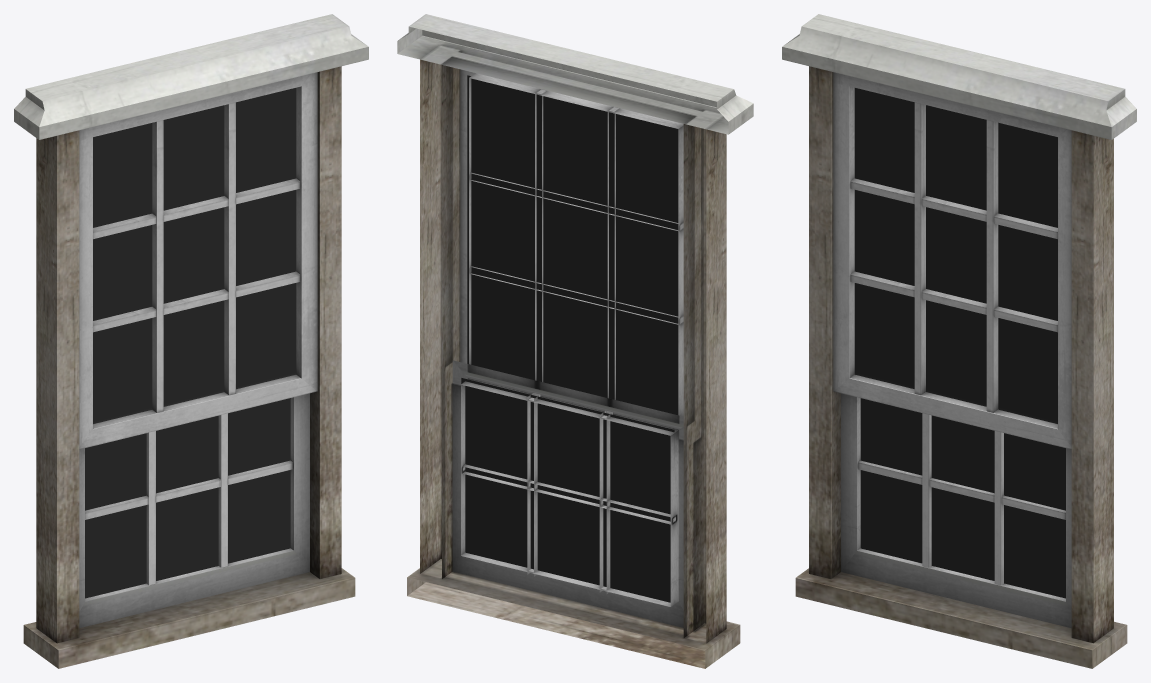
File: Window_03_closed.FBX
3 renders of one model, left to right at view 1: azimuth 30°, elevation 25°; view 2: azimuth 150°, elevation 25°; view 3: azimuth 330°, elevation 25°, orthographic.
Visible parts, largest first — view 1: WindowFrame_03_closed; view 2: WindowFrame_03_closed; view 3: WindowFrame_03_closed.
Part boxes in pixels (x1,y1,x2,y2): WindowFrame_03_closed: [14, 14, 368, 668]; WindowFrame_03_closed: [397, 14, 753, 668]; WindowFrame_03_closed: [782, 14, 1136, 668].
Bounding box in the file's own units: 74.11 × 120 × 13.55.
